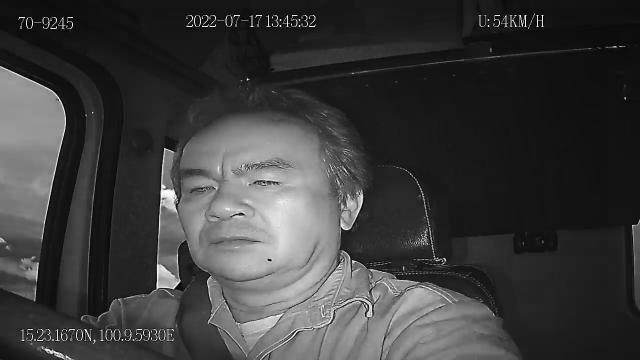SafeDriving: (242, 167, 291, 194), (179, 173, 221, 202)
Seatbelt: (174, 272, 238, 360)
